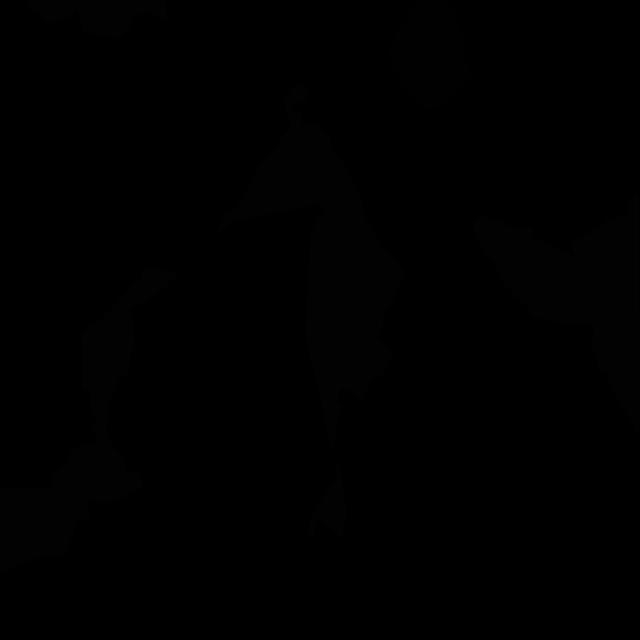cardboard: (216, 84, 405, 384), (64, 268, 180, 522), (572, 190, 640, 439), (472, 216, 613, 336), (305, 327, 393, 454), (0, 460, 78, 574), (26, 0, 167, 39), (308, 462, 346, 540)
rigid_plastic: (388, 0, 472, 111)
